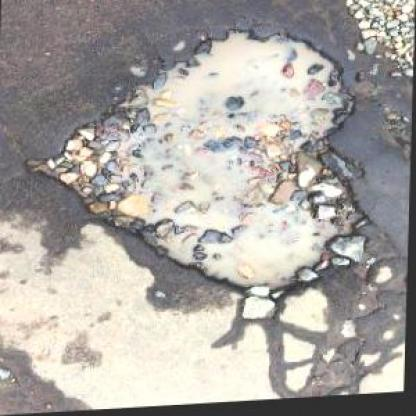pothole: (24, 24, 378, 316)
